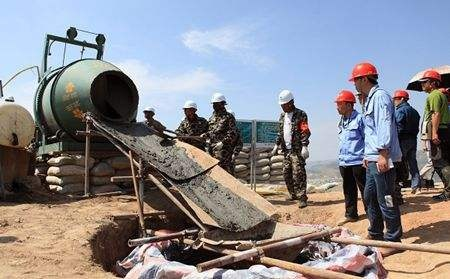red: (350, 61, 380, 95), (334, 88, 356, 117), (419, 68, 442, 94), (390, 88, 409, 110)
white: (209, 91, 228, 115), (277, 89, 296, 113), (181, 100, 198, 119), (143, 105, 155, 120)
